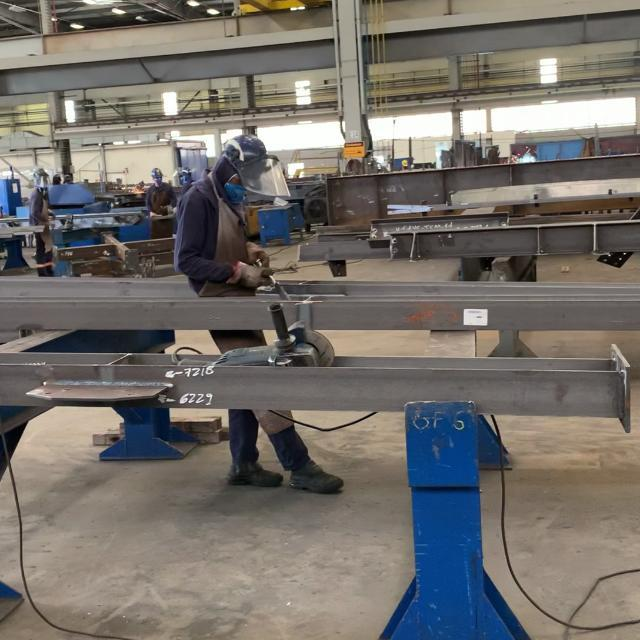eye-glass: (226, 157, 296, 199)
face-shield: (227, 259, 274, 288), (246, 241, 271, 272)
glove: (219, 137, 269, 163)
mask: (175, 134, 280, 301)
safety-shoe: (283, 460, 346, 495), (226, 460, 284, 488)
